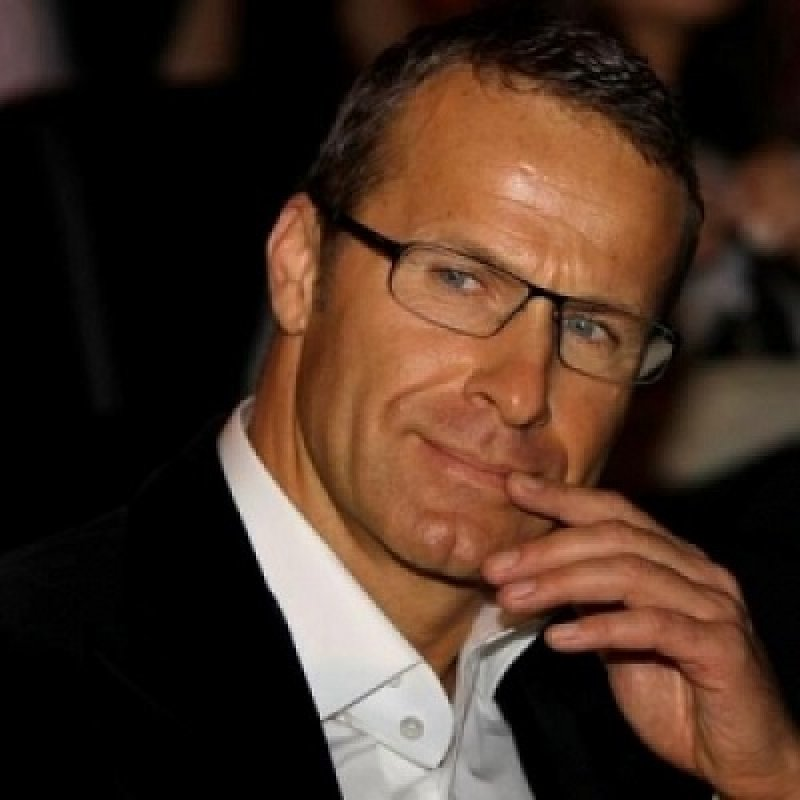glasses: (361, 223, 707, 401)
